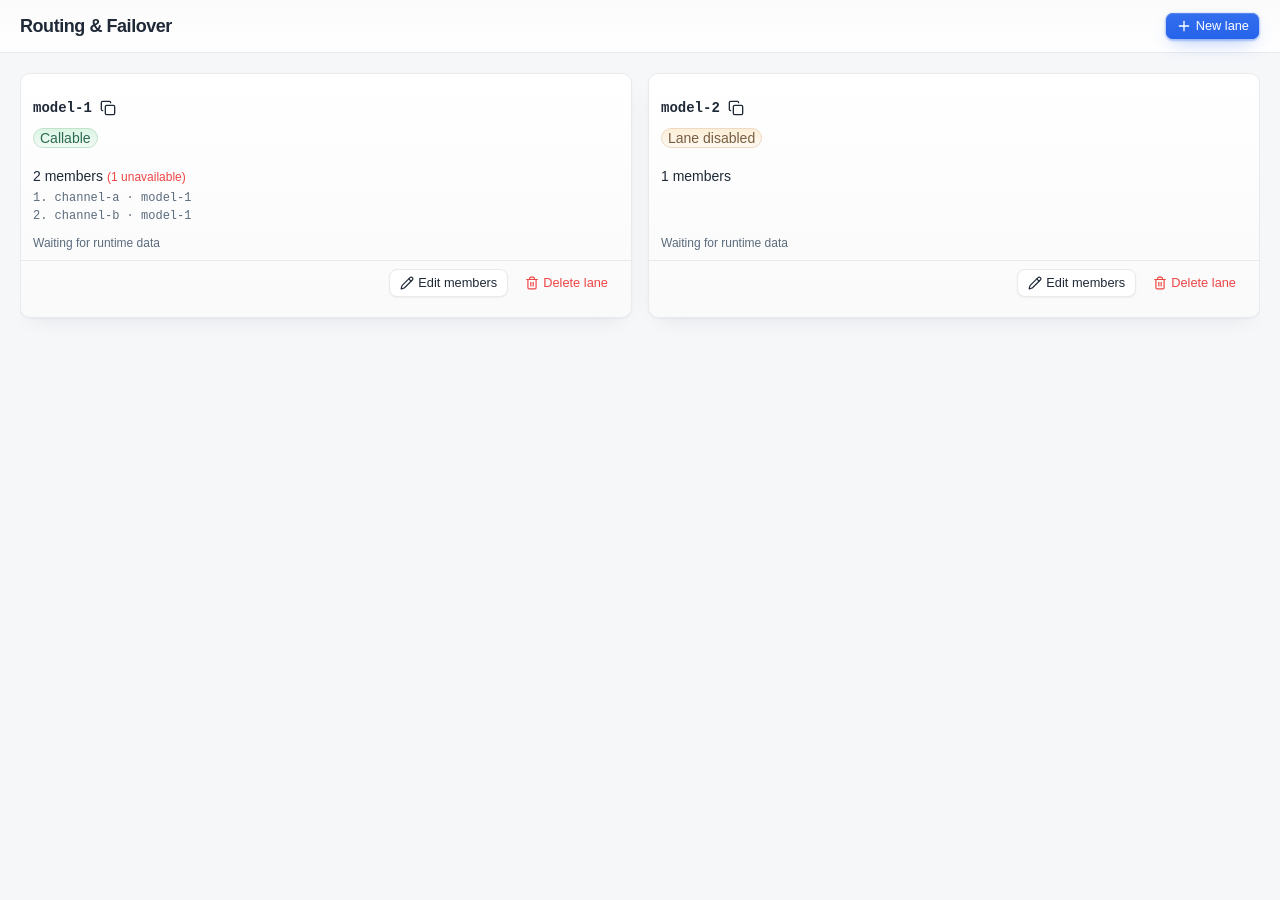
路由与故障切换页 › 页头「新建车道」打开可编辑路由键的编排器，成员从空开始
Click the button "New lane": [1212, 26] box [1165,12,1260,40]
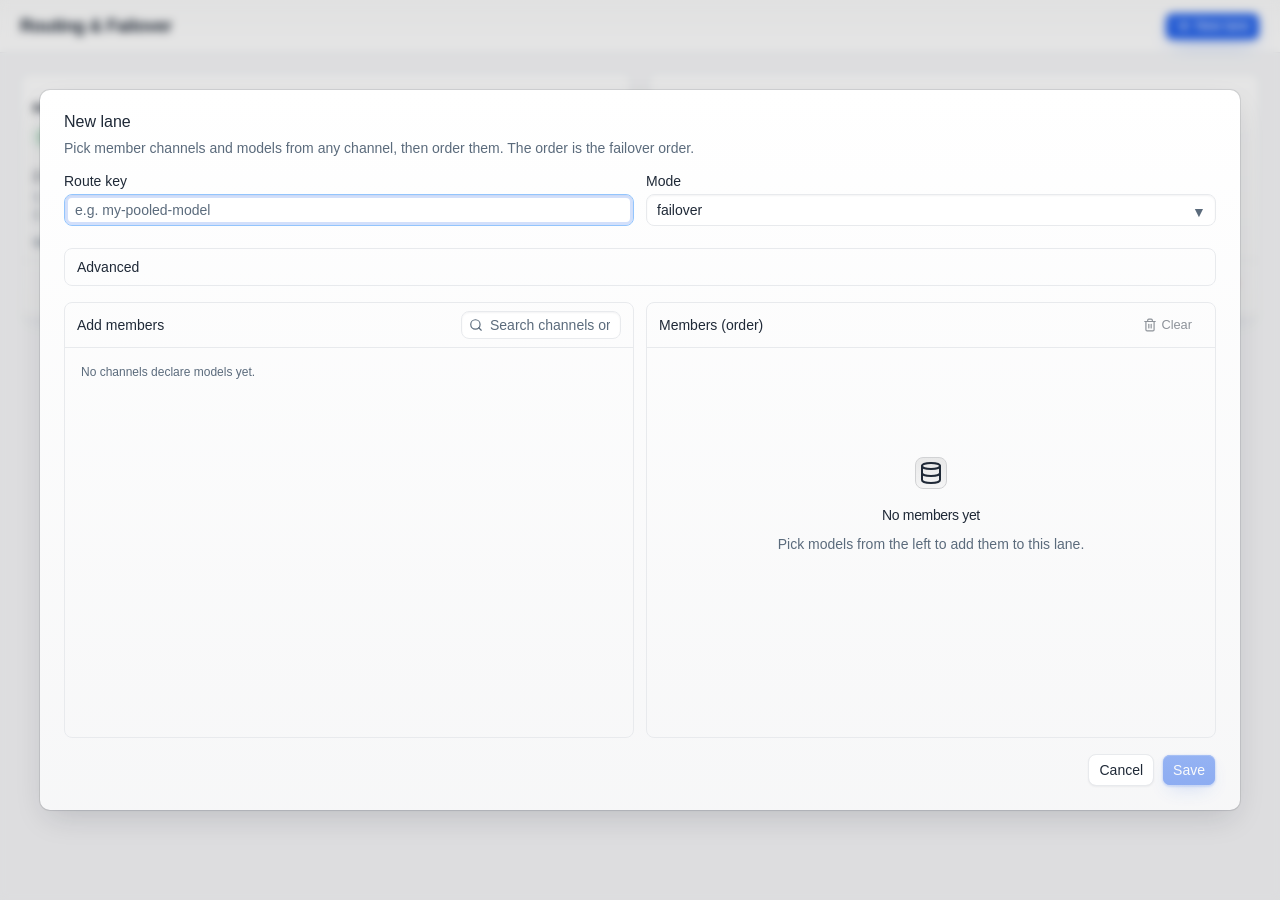
Now the field labelled "Route key" is enabled, box [64,194,634,226]
Now the field labelled "Route key" is empty, box [64,194,634,226]
Now the text "No members yet" is shown, box [882,505,980,525]
